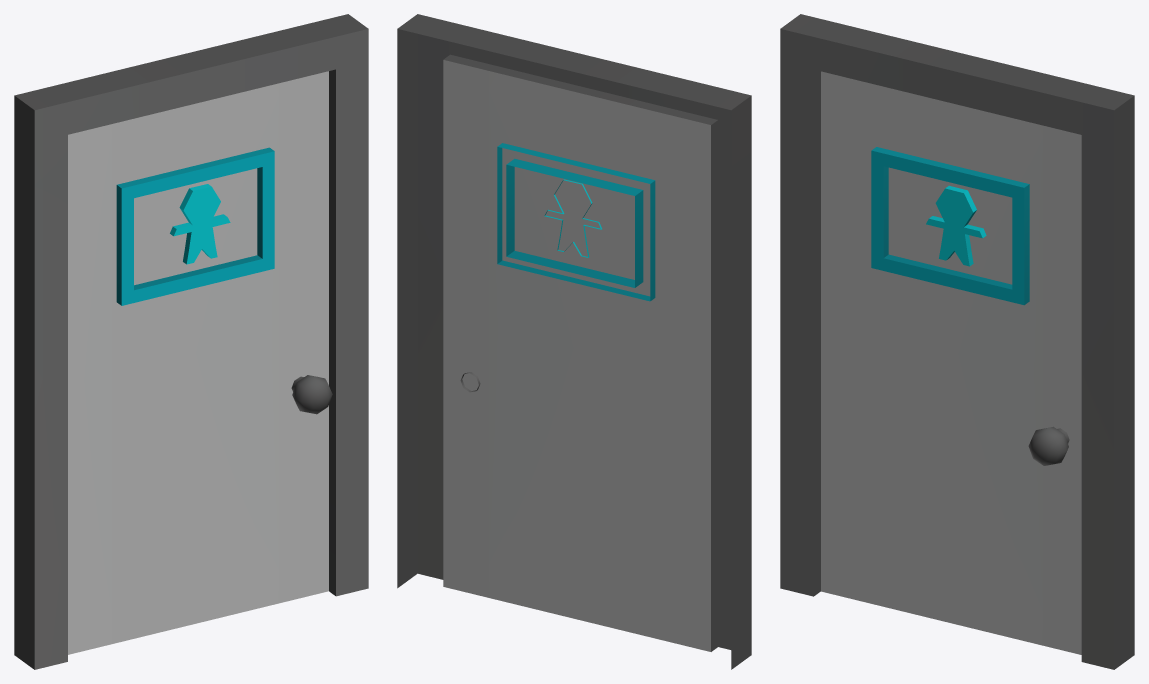
Rendered from PortaBanBoy.fbx.
3 views of the same model, side by side, from view 1: azimuth 30°, elevation 25°; view 2: azimuth 150°, elevation 25°; view 3: azimuth 330°, elevation 25° (orthographic).
Parts seen in each view (by area): view 1: BathroomDoorBoys; view 2: BathroomDoorBoys; view 3: BathroomDoorBoys.
Part boxes in pixels (box(x1,y1,x2,y2)): BathroomDoorBoys: box(14, 14, 368, 669); BathroomDoorBoys: box(397, 14, 751, 669); BathroomDoorBoys: box(780, 14, 1134, 669).
Size of the model in its own units: 88.6 by 142 by 15.52.
